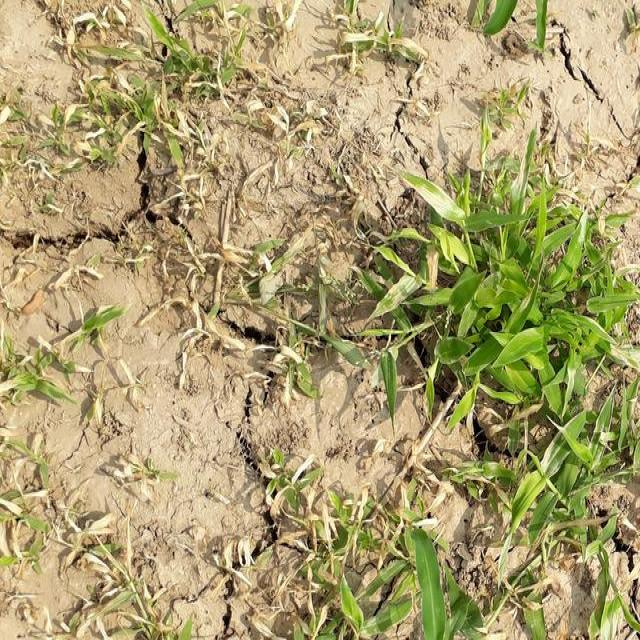weed: (382, 146, 640, 492)
